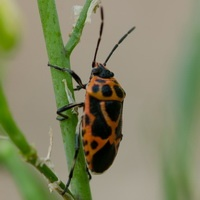insect: (49, 7, 134, 178)
